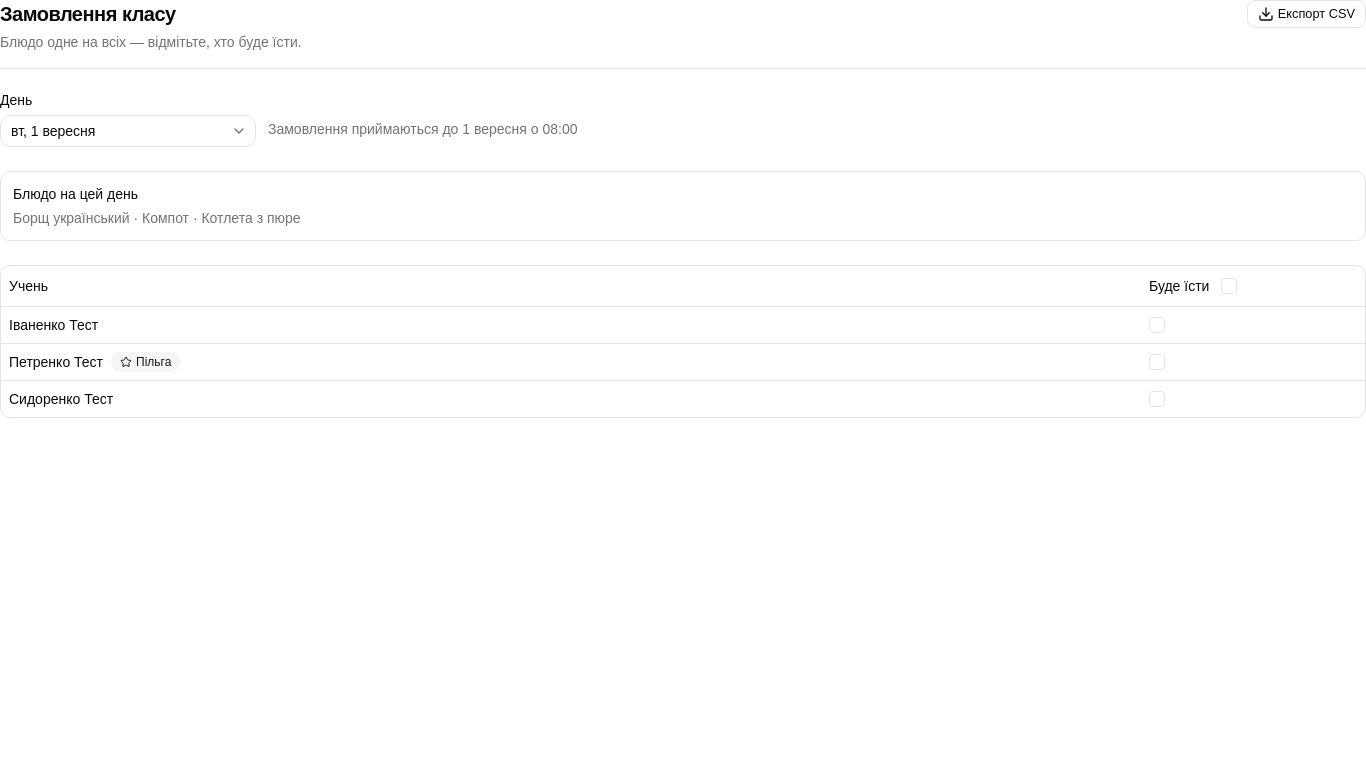
Scenario: замовлення за клас › якщо частина замовлень не пройшла — винних названо поіменно
Expected: the text "Іваненко Тест" is shown, x1=9 y1=316 x2=98 y2=332
Click the checkbox named "Блюдо для Іваненко" at [1157, 324], box x1=1149 y1=316 x2=1165 y2=332
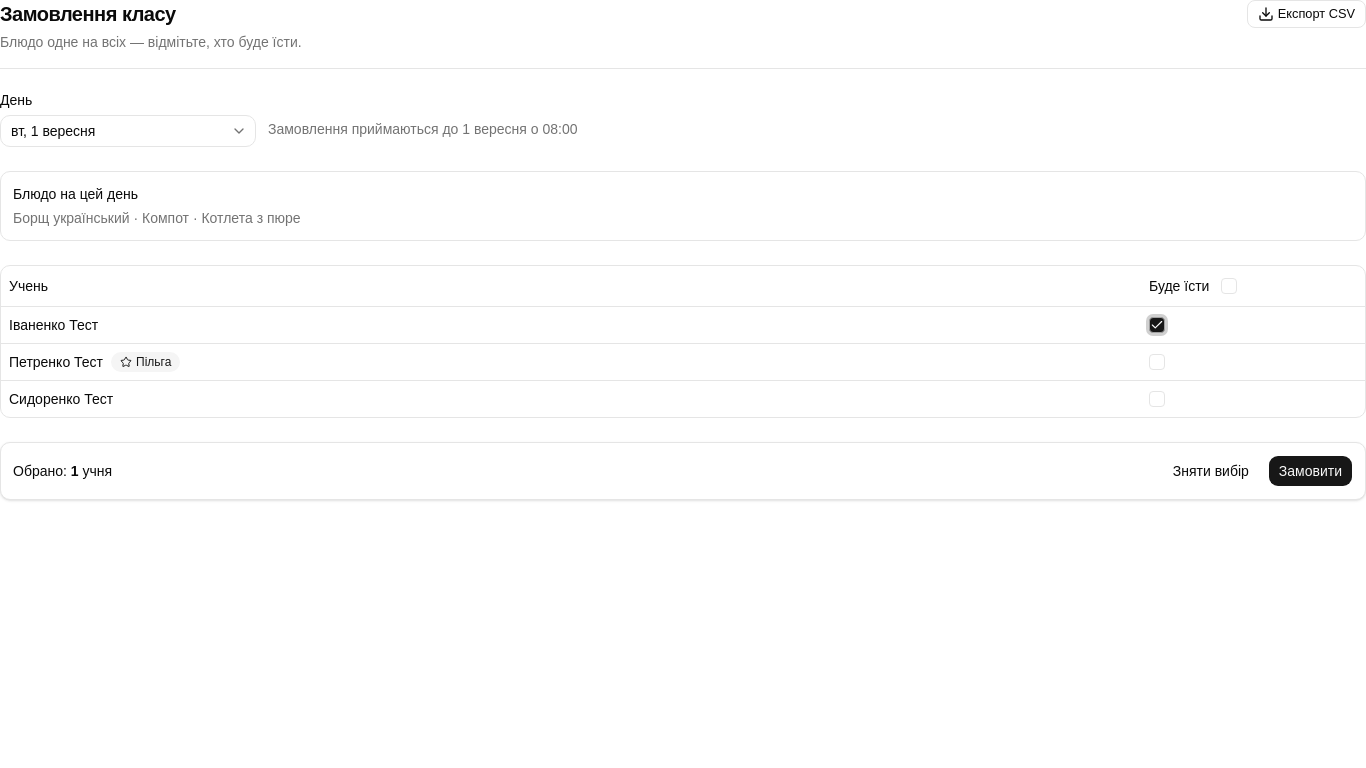
Click the checkbox named "Блюдо для Петренко" at [1157, 362], box x1=1149 y1=354 x2=1165 y2=370
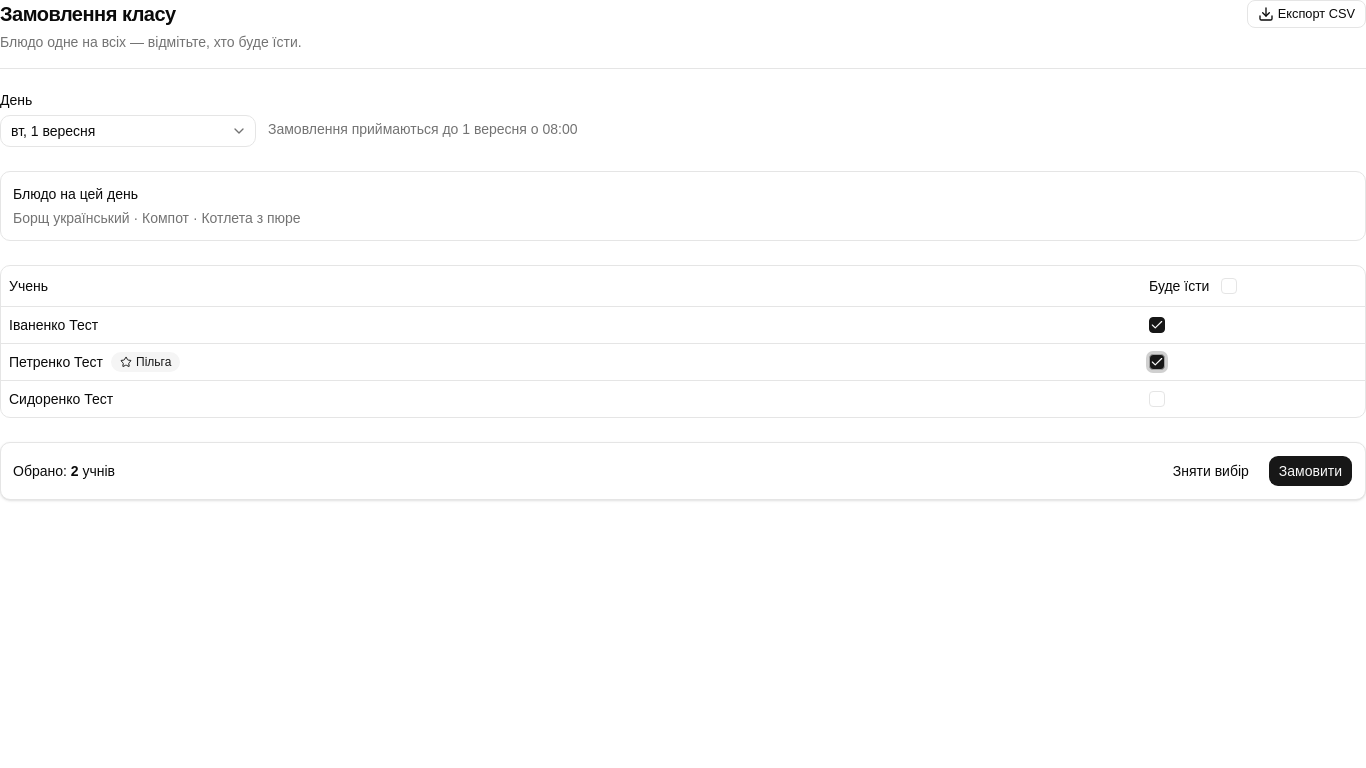
Click the button "Замовити" at [1310, 470], box x1=1268 y1=454 x2=1353 y2=486
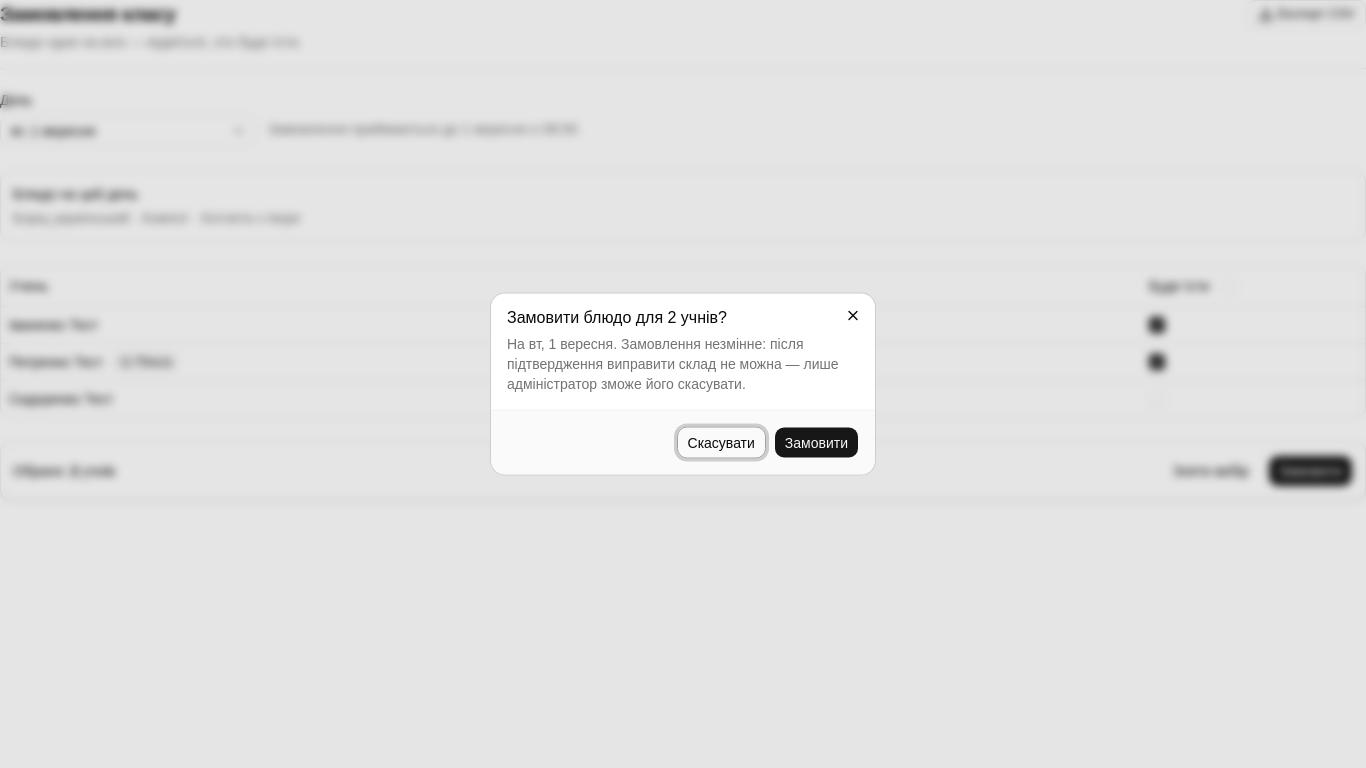
Click the button "Замовити" at [816, 442], box x1=774 y1=426 x2=859 y2=458
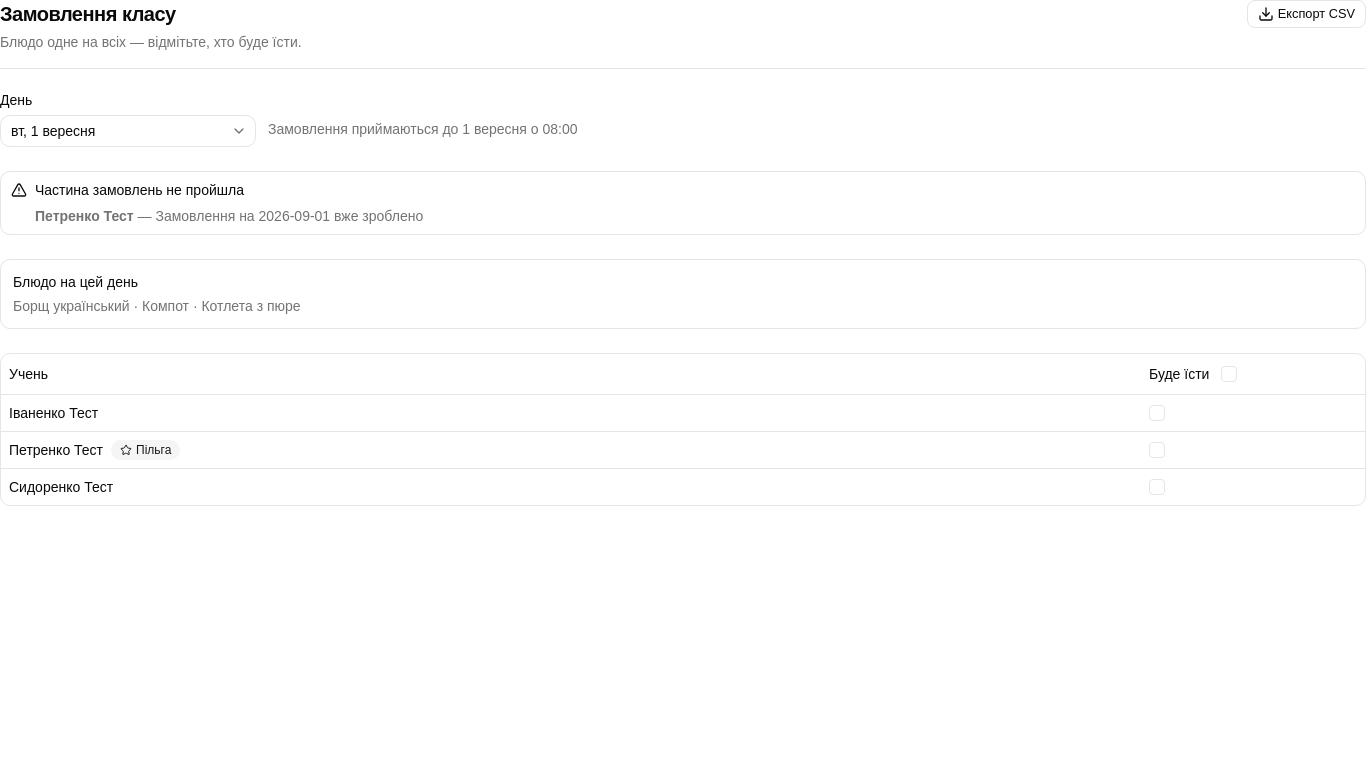
Expected: the text "Петренко Тест" is shown, x1=35 y1=208 x2=134 y2=224
Expected: the list item "Петренко Тест — Замовлення на 2026-09-01 вже зроблено" is shown, x1=35 y1=208 x2=423 y2=224
